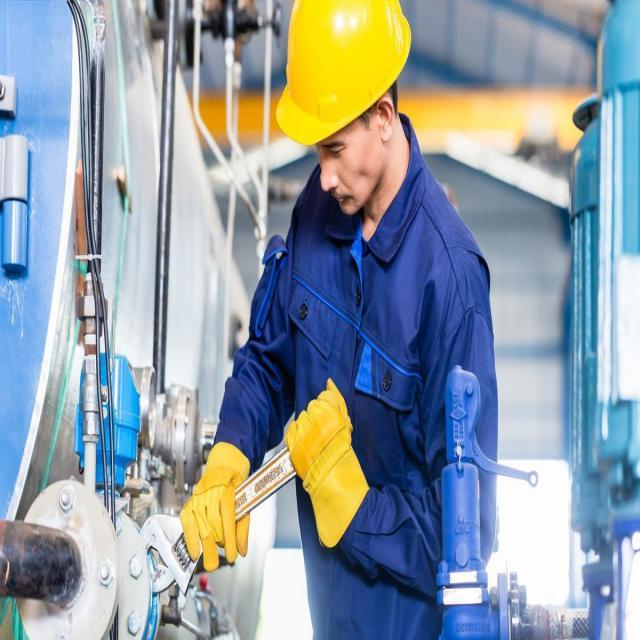reflective_jacket: (0, 577, 18, 637)
safety_helmet: (274, 2, 411, 152)
